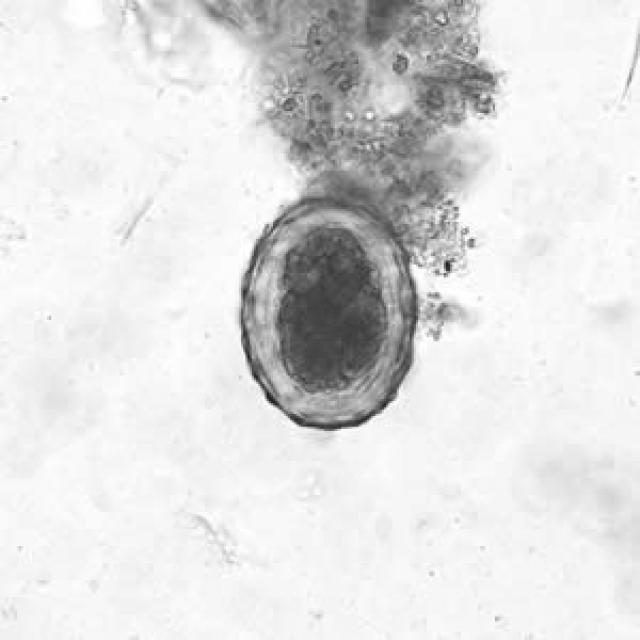Ascaris Lumbricoides: (229, 188, 426, 439)
